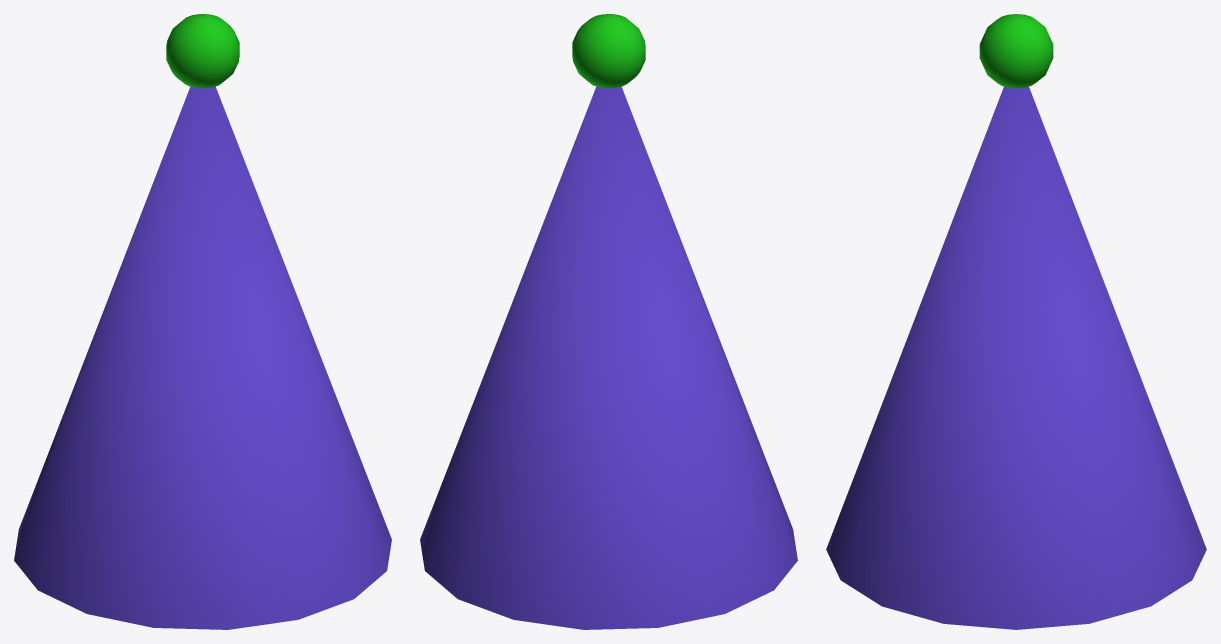
Rendered from PartyHat.fbx.
The picture shows the model from 3 angles, left to right: view 1: azimuth 30°, elevation 25°; view 2: azimuth 150°, elevation 25°; view 3: azimuth 270°, elevation 25°; orthographic projection.
Visible parts, largest first — view 1: PartyHat_lp; view 2: PartyHat_lp; view 3: PartyHat_lp.
Boxes of the visible parts, x1=… form: PartyHat_lp: x1=14, y1=14, x2=391, y2=629; PartyHat_lp: x1=420, y1=14, x2=797, y2=629; PartyHat_lp: x1=826, y1=14, x2=1206, y2=629.
Size of the model in its own units: 0.2508 by 0.3869 by 0.2508.
